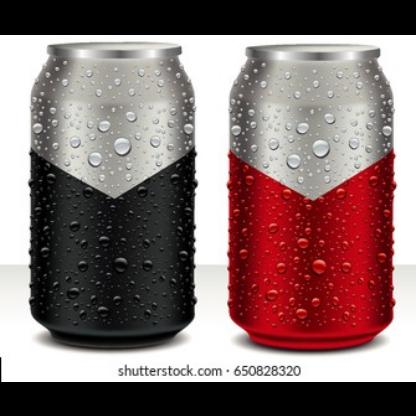Tin_Can: (223, 41, 392, 350), (35, 38, 196, 348)
